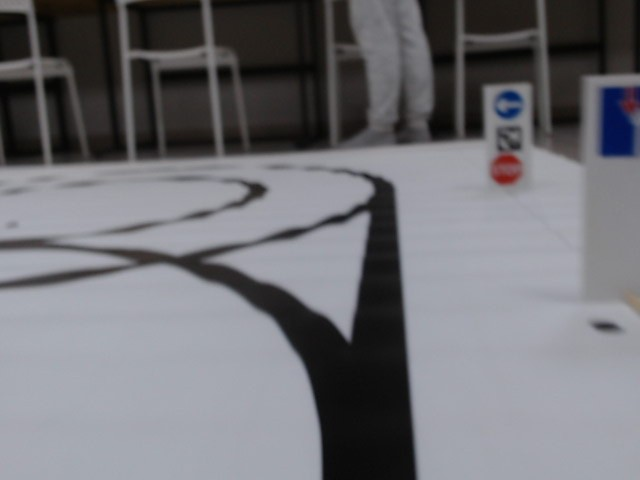Stop: (489, 155, 523, 181)
